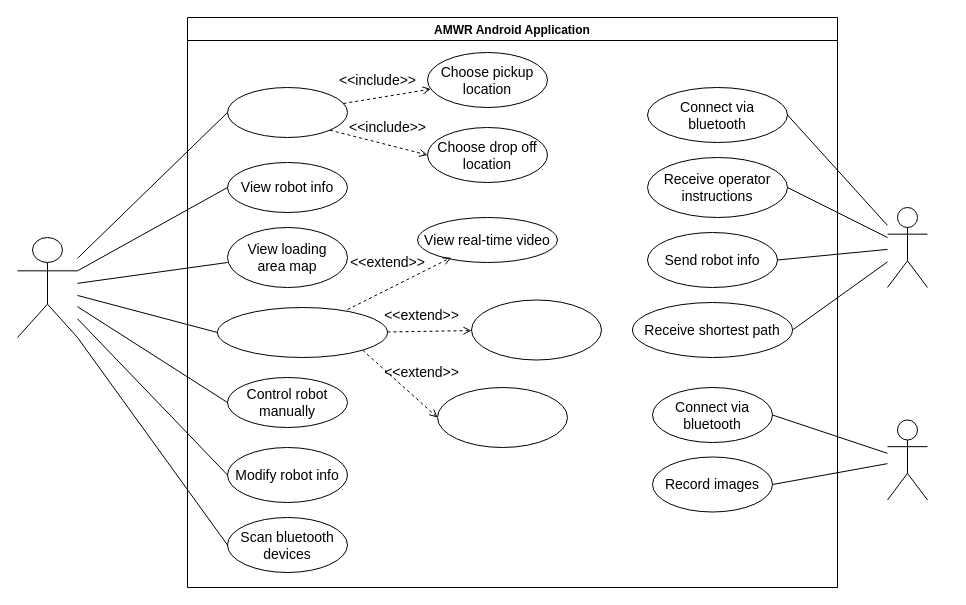
Image size: 966x605. Some labels were removed from this diagram. Each missing label, with the box of its shape:
AMWR Robot: (886, 206, 928, 288)
ESP32 Camera: (886, 419, 928, 500)
Operator: (16, 236, 78, 338)
Send robot instructions: (226, 86, 348, 138)
View product current location: (436, 386, 568, 448)
View real-time operaion: (216, 306, 388, 358)
View robot current status: (470, 299, 602, 360)
